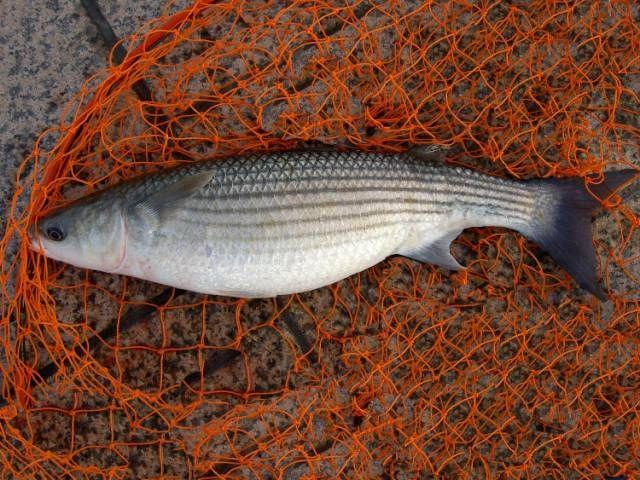Mullet: (29, 143, 640, 311)
